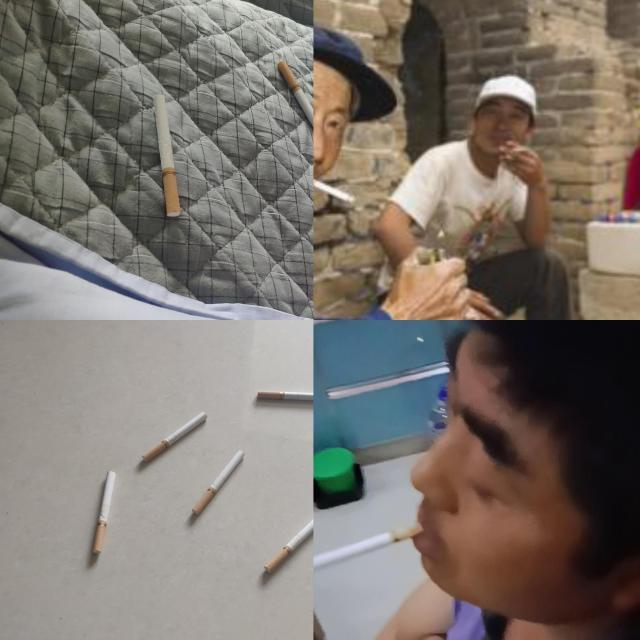smoking: (313, 523, 424, 572), (152, 94, 182, 217), (192, 450, 244, 516), (142, 411, 207, 462), (264, 509, 314, 574), (277, 59, 313, 148), (92, 470, 116, 554), (314, 164, 354, 206), (257, 390, 313, 403)
